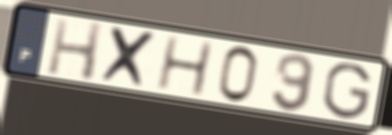0: (215, 45, 261, 104)
9: (271, 51, 317, 114)
G: (321, 61, 374, 121)
H: (44, 16, 107, 84), (153, 34, 217, 99)
X: (97, 24, 162, 92)
